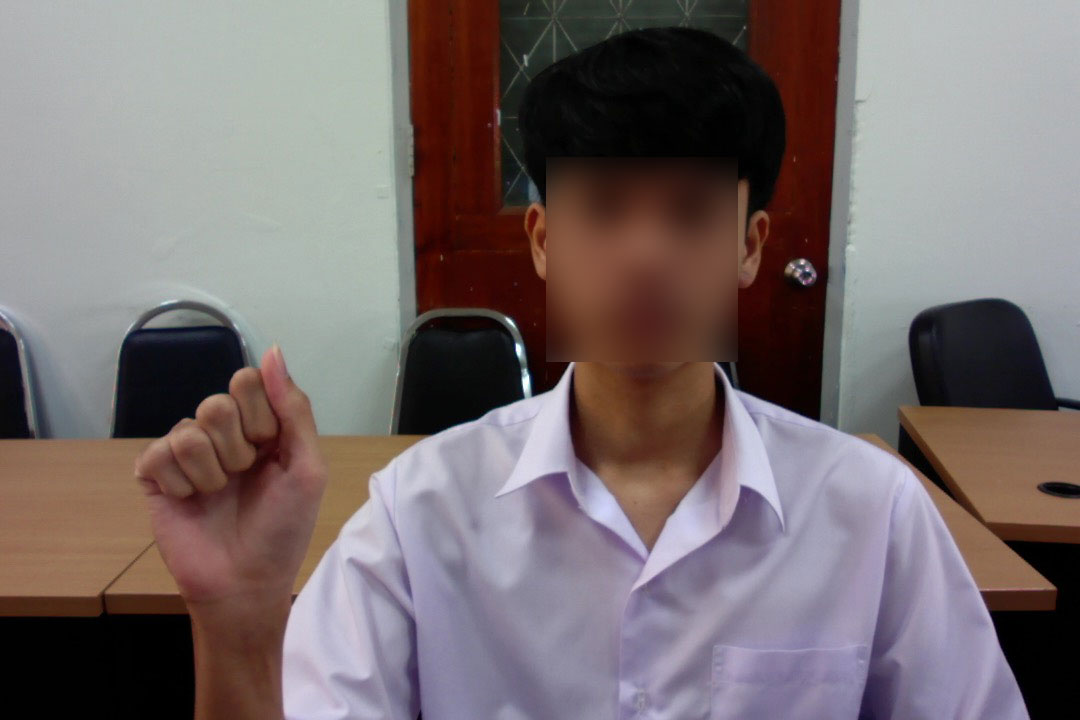or: (126, 328, 350, 628)
